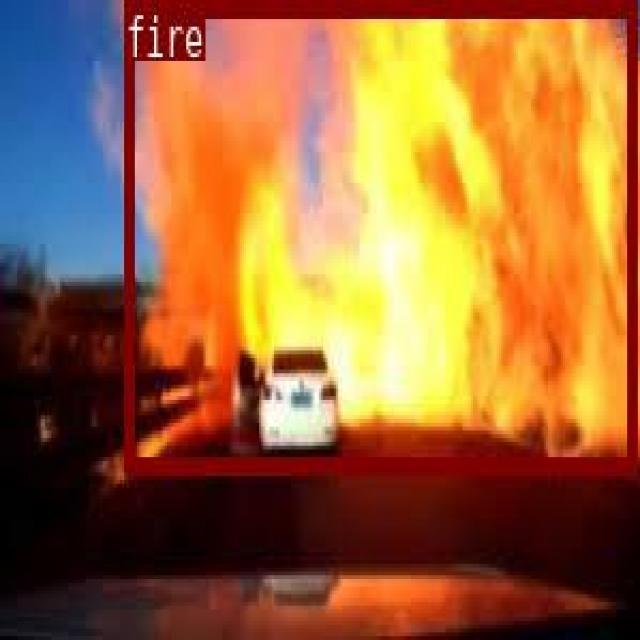fire: (123, 0, 635, 469)
